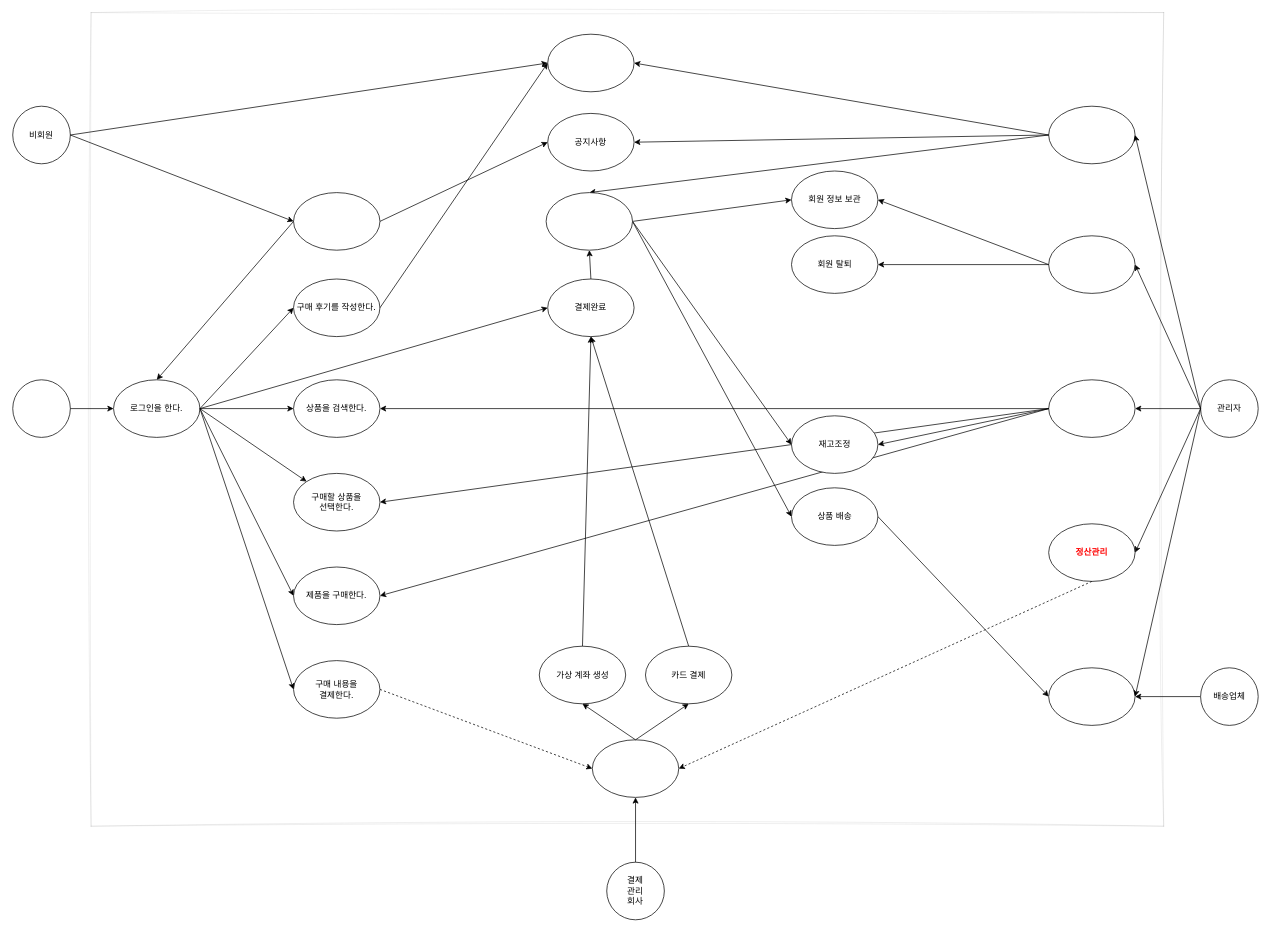
Some shapes in this 1271 by 932 pixel diagram are drawn without their labels. Here are the shapes that lost their labels. From the top down, the box of each, then its label:
(547, 33, 634, 92): 구매 후기
(1048, 105, 1135, 164): 판매관리
(293, 192, 380, 250): 회원 가입을 한다.
(545, 192, 633, 250): 상품 준비
(1048, 235, 1135, 293): 회원관리
(12, 379, 70, 437): 회원
(1048, 379, 1135, 437): 상품관리
(1048, 667, 1135, 725): 배송관리
(592, 739, 679, 797): 결제 시스템
